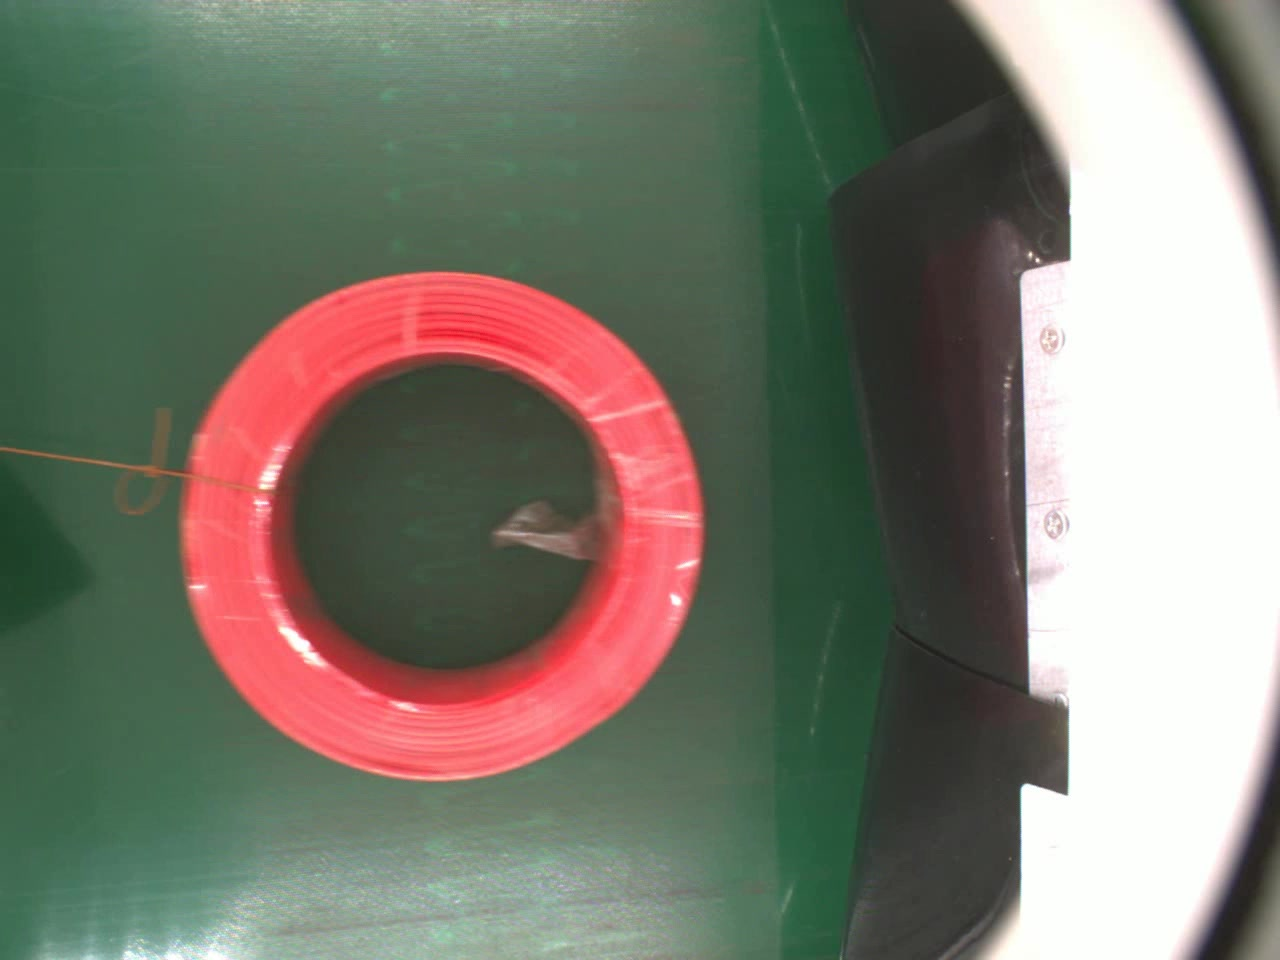red: (180, 267, 703, 785)
